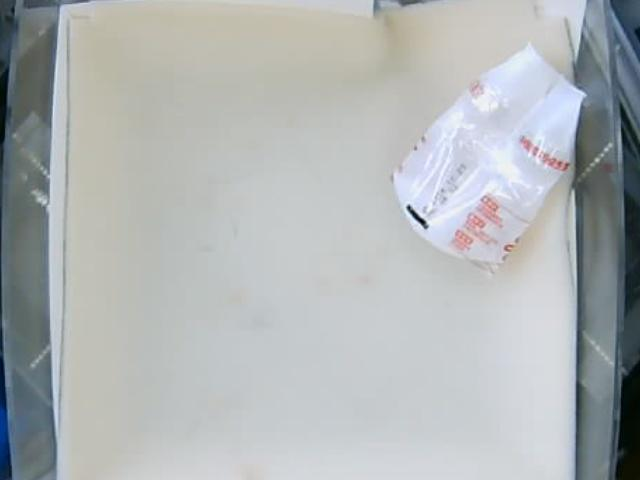Bottle: (392, 46, 588, 272)
